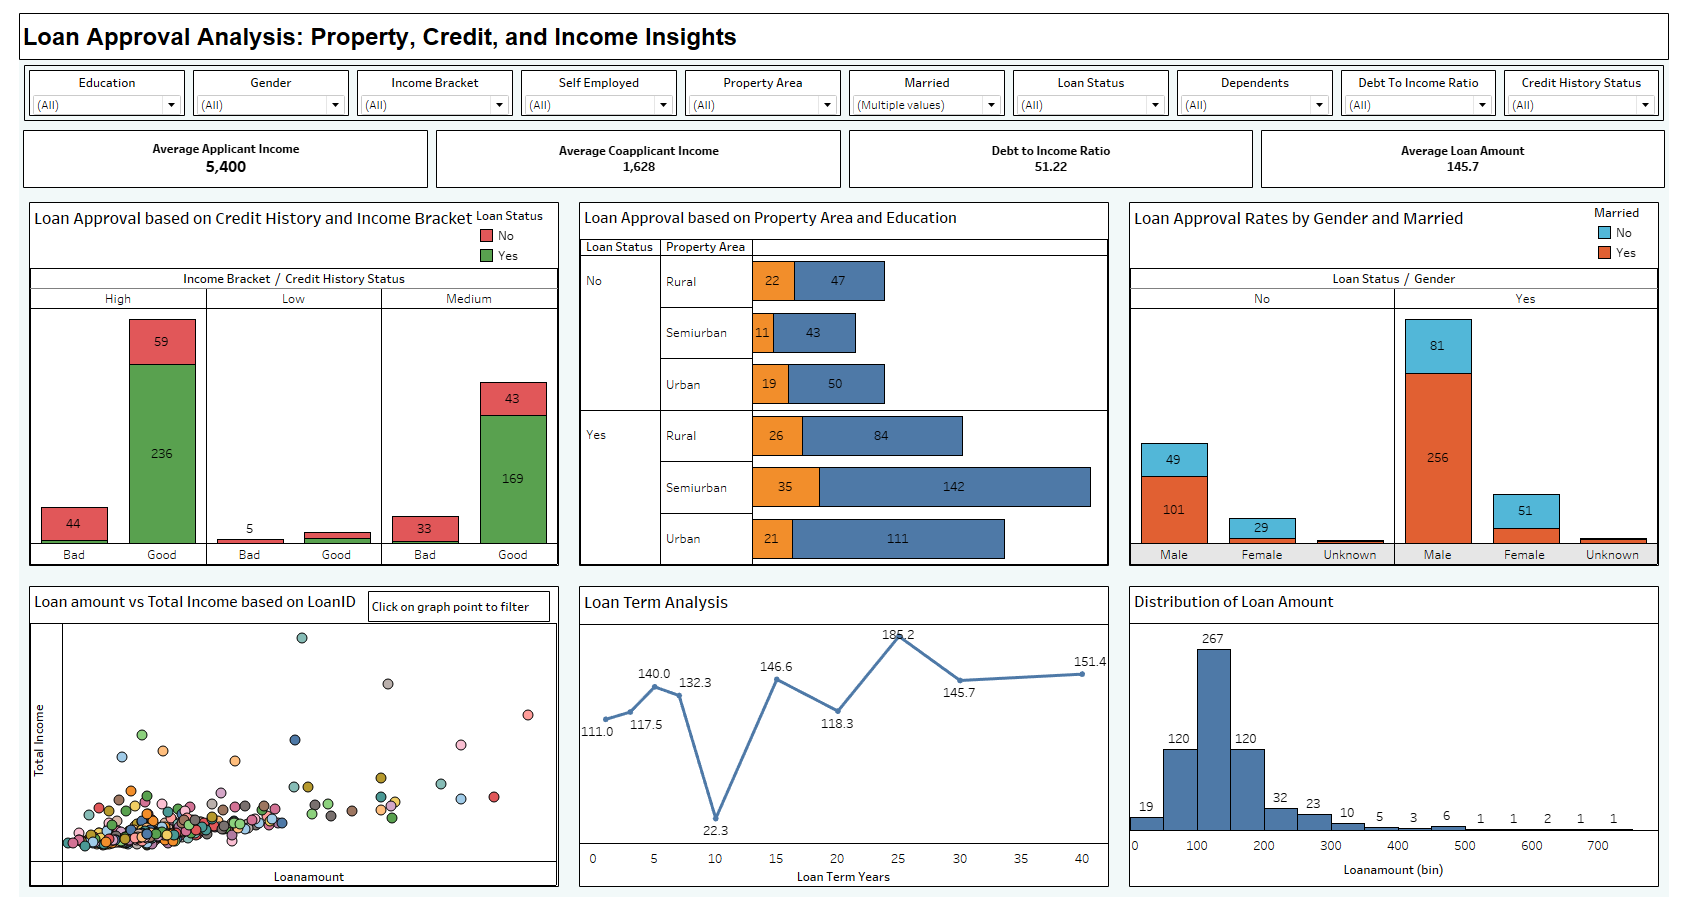

This screenshot's page, from the dashboard's own definition file:
{"tool":"tableau","page":{"name":"Dashboard 1","canvas":[1666,900],"ordinal":0},"visuals":[{"type":"text","box":[8,8,1650,47]},{"type":"filter","title":"Loan Approval based on Credit History and Income Bracket","param":"[federated.0necseo1v4qgcq1fng1lm0xrphl3].[none:education:nk]","box":[14,61,164,54]},{"type":"filter","title":"Loan Approval based on Credit History and Income Bracket","param":"[federated.0necseo1v4qgcq1fng1lm0xrphl3].[none:gender:nk]","box":[178,61,164,54]},{"type":"filter","title":"Loan Approval based on Credit History and Income Bracket","param":"[federated.0necseo1v4qgcq1fng1lm0xrphl3].[none:income_bracket:nk]","box":[342,61,164,54]},{"type":"filter","title":"Loan Approval based on Credit History and Income Bracket","param":"[federated.0necseo1v4qgcq1fng1lm0xrphl3].[none:self_employed:nk]","box":[506,61,164,54]},{"type":"filter","title":"Loan Approval based on Credit History and Income Bracket","param":"[federated.0necseo1v4qgcq1fng1lm0xrphl3].[none:property_area:nk]","box":[670,61,164,54]},{"type":"filter","title":"Loan Approval based on Credit History and Income Bracket","param":"[federated.0necseo1v4qgcq1fng1lm0xrphl3].[none:married:nk]","box":[834,61,164,54]},{"type":"filter","title":"Loan Approval based on Credit History and Income Bracket","param":"[federated.0necseo1v4qgcq1fng1lm0xrphl3].[none:loan_status:nk]","box":[998,61,164,54]},{"type":"filter","title":"Loan Approval based on Credit History and Income Bracket","param":"[federated.0necseo1v4qgcq1fng1lm0xrphl3].[none:dependents:nk]","box":[1162,61,164,54]},{"type":"filter","title":"Loan Approval based on Credit History and Income Bracket","param":"[federated.0necseo1v4qgcq1fng1lm0xrphl3].[none:Calculation_3504926467874414596:n","box":[1326,61,163,54]},{"type":"filter","title":"Loan Approval based on Credit History and Income Bracket","param":"[federated.0necseo1v4qgcq1fng1lm0xrphl3].[none:credit_history_status:nk]","box":[1489,61,163,54]},{"type":"worksheet","title":"Average Applicant Income","mark":"Automatic","box":[8,121,413,66]},{"type":"worksheet","title":"Average coapplicant Income","mark":"Automatic","box":[421,121,413,66]},{"type":"worksheet","title":"Debt to Income Ratio","mark":"Automatic","box":[834,121,412,66]},{"type":"worksheet","title":"Average Loan Amount","mark":"Automatic","box":[1246,121,412,66]},{"type":"worksheet","title":"Loan Approval based on Credit History and Income Bracket","mark":"Automatic","rows":["loans_6E9460102D734D50AEE55E472D69AB9B"],"cols":["income_bracket","credit_history_status"],"box":[8,187,550,384]},{"type":"worksheet","title":" Loan Approval by Property Area","mark":"Automatic","rows":["loan_status","property_area"],"cols":["loans_6E9460102D734D50AEE55E472D69AB9B"],"box":[558,187,550,384]},{"type":"worksheet","title":"Loan Approval Rates by Gender and Education","mark":"Automatic","rows":["loans_6E9460102D734D50AEE55E472D69AB9B"],"cols":["loan_status","gender"],"box":[1108,187,550,384]},{"type":"legend","title":"Loan Approval Rates by Gender and Education","param":"[federated.0necseo1v4qgcq1fng1lm0xrphl3].[none:married:nk]","box":[1583,199,61,60]},{"type":"legend","title":"Loan Approval based on Credit History and Income Bracket","param":"[federated.0necseo1v4qgcq1fng1lm0xrphl3].[none:loan_status:nk]","box":[465,202.2,79,60.1]},{"type":"worksheet","title":"Sheet 7","mark":"Circle","rows":["total_income"],"cols":["loanamount"],"box":[8,571,550,321]},{"type":"worksheet","title":"Loan Term Analysis","mark":"Automatic","rows":["loanamount"],"cols":["loan_term_years"],"box":[558,571,550,321]},{"type":"worksheet","title":"Distribution of Loan Amount","mark":"Automatic","rows":["loanamount"],"cols":["Loanamount (bin)"],"box":[1108,571,550,321]},{"type":"text","box":[357,585.8,182,31.1]}]}

Visuals, with their boxes in screenshot pixels (x1, y1, x2, y2), scaled from the page's 1666x900 canvas onto the 1689x923 screenshot:
text: [left=8, top=8, right=1681, bottom=56]
"Loan Approval based on Credit History and Income Bracket" filter: [left=14, top=63, right=180, bottom=118]
"Loan Approval based on Credit History and Income Bracket" filter: [left=180, top=63, right=347, bottom=118]
"Loan Approval based on Credit History and Income Bracket" filter: [left=347, top=63, right=513, bottom=118]
"Loan Approval based on Credit History and Income Bracket" filter: [left=513, top=63, right=679, bottom=118]
"Loan Approval based on Credit History and Income Bracket" filter: [left=679, top=63, right=846, bottom=118]
"Loan Approval based on Credit History and Income Bracket" filter: [left=846, top=63, right=1012, bottom=118]
"Loan Approval based on Credit History and Income Bracket" filter: [left=1012, top=63, right=1178, bottom=118]
"Loan Approval based on Credit History and Income Bracket" filter: [left=1178, top=63, right=1344, bottom=118]
"Loan Approval based on Credit History and Income Bracket" filter: [left=1344, top=63, right=1510, bottom=118]
"Loan Approval based on Credit History and Income Bracket" filter: [left=1510, top=63, right=1675, bottom=118]
"Average Applicant Income" worksheet: [left=8, top=124, right=427, bottom=192]
"Average coapplicant Income" worksheet: [left=427, top=124, right=846, bottom=192]
"Debt to Income Ratio" worksheet: [left=846, top=124, right=1263, bottom=192]
"Average Loan Amount" worksheet: [left=1263, top=124, right=1681, bottom=192]
"Loan Approval based on Credit History and Income Bracket" worksheet: [left=8, top=192, right=566, bottom=586]
" Loan Approval by Property Area" worksheet: [left=566, top=192, right=1123, bottom=586]
"Loan Approval Rates by Gender and Education" worksheet: [left=1123, top=192, right=1681, bottom=586]
"Loan Approval Rates by Gender and Education" legend: [left=1605, top=204, right=1667, bottom=266]
"Loan Approval based on Credit History and Income Bracket" legend: [left=471, top=207, right=552, bottom=269]
"Sheet 7" worksheet (Circle marks): [left=8, top=586, right=566, bottom=915]
"Loan Term Analysis" worksheet: [left=566, top=586, right=1123, bottom=915]
"Distribution of Loan Amount" worksheet: [left=1123, top=586, right=1681, bottom=915]
text: [left=362, top=601, right=546, bottom=633]
